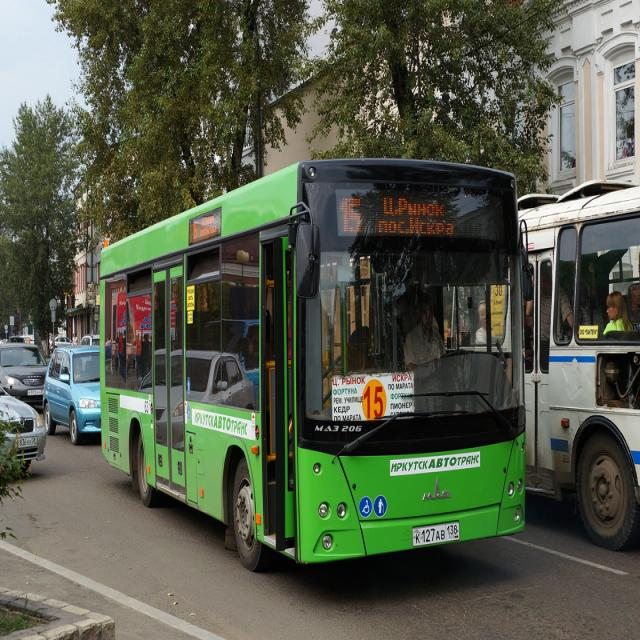number-of-bus: (363, 385, 386, 422)
